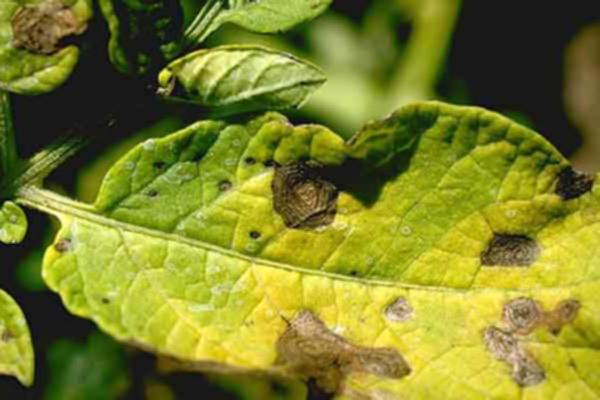Tomato Early blight leaf: (36, 104, 590, 393)
